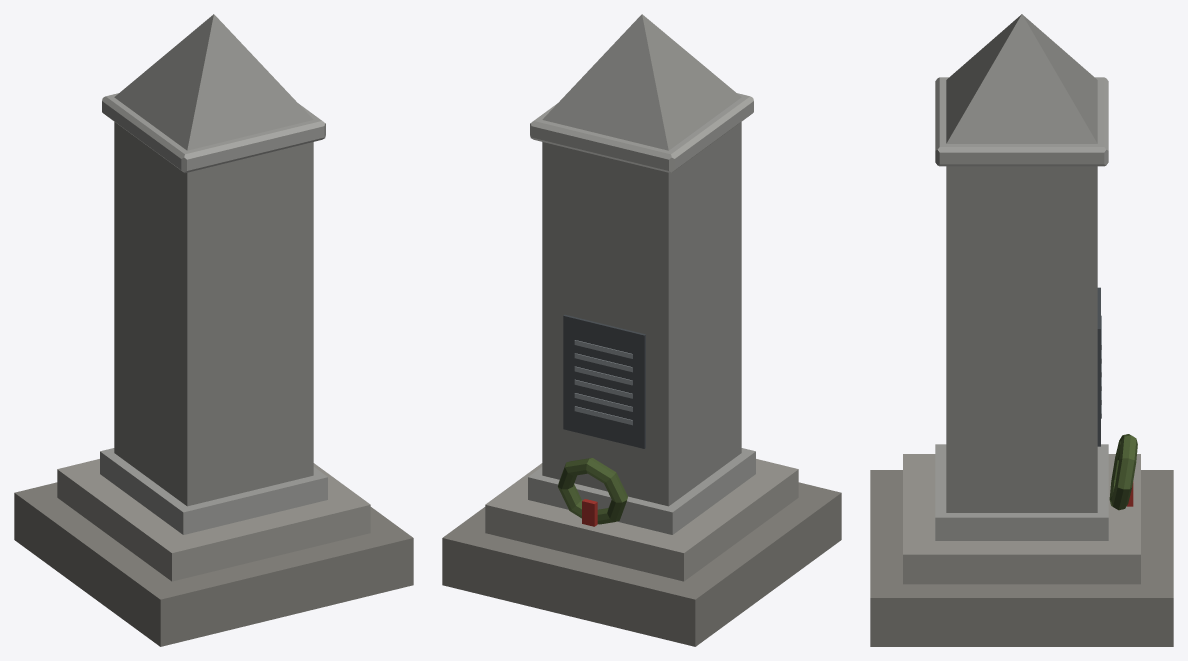
Rendered from monument.glb.
3 views of the same model, side by side, from view 1: azimuth 30°, elevation 25°; view 2: azimuth 150°, elevation 25°; view 3: azimuth 270°, elevation 25° (orthographic). The views are drawn at different scales.
Visible parts, largest first — view 1: shaft, step_low, step_high, pyramid, plinth, cap; view 2: shaft, step_low, step_high, pyramid, plaque, plinth, cap, wreath, lines; view 3: shaft, step_low, step_high, pyramid, plinth, cap, wreath, plaque.
Boxes of the visible parts, x1,y1,x2,y2 form: shaft: (114,122,313,506); step_low: (14,482,413,646); step_high: (57,459,370,581); pyramid: (114,14,313,150); plinth: (100,448,327,534); cap: (102,93,325,173); shaft: (542,122,741,506); step_low: (442,482,841,646); step_high: (485,459,798,581); pyramid: (542,14,741,150); plaque: (563,314,645,448); plinth: (528,448,755,534); cap: (530,93,753,173); wreath: (558,457,627,524); lines: (574,340,632,425); shaft: (946,166,1097,512); step_low: (870,470,1173,646); step_high: (903,454,1140,584); pyramid: (946,14,1097,143); plinth: (935,444,1108,540); cap: (935,77,1108,166); wreath: (1109,434,1137,510); plaque: (1097,287,1100,446).
Bounding box in the file's own units: 1.4 × 2.9 × 1.4.
8 materials, 8 textured.
